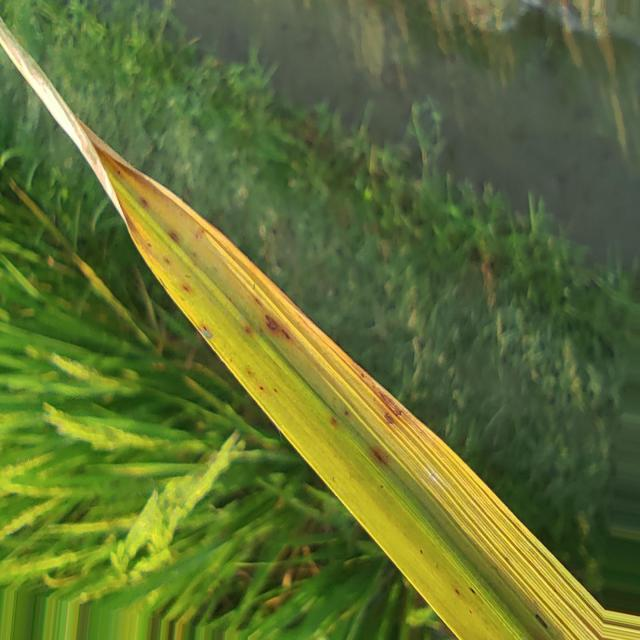Brown_Spot: (372, 381, 416, 424), (379, 386, 416, 425), (192, 218, 215, 240), (370, 445, 389, 465), (265, 313, 279, 335), (160, 252, 174, 268), (240, 318, 252, 336), (465, 580, 479, 595), (360, 368, 374, 382), (535, 613, 548, 628), (280, 325, 291, 340), (181, 280, 192, 293), (244, 367, 256, 378), (138, 195, 149, 207), (201, 327, 212, 338), (169, 232, 180, 243), (330, 415, 338, 427), (466, 608, 475, 617), (271, 387, 281, 394), (145, 237, 152, 247), (258, 385, 264, 392), (419, 547, 424, 555), (344, 410, 349, 416), (455, 588, 460, 594)
